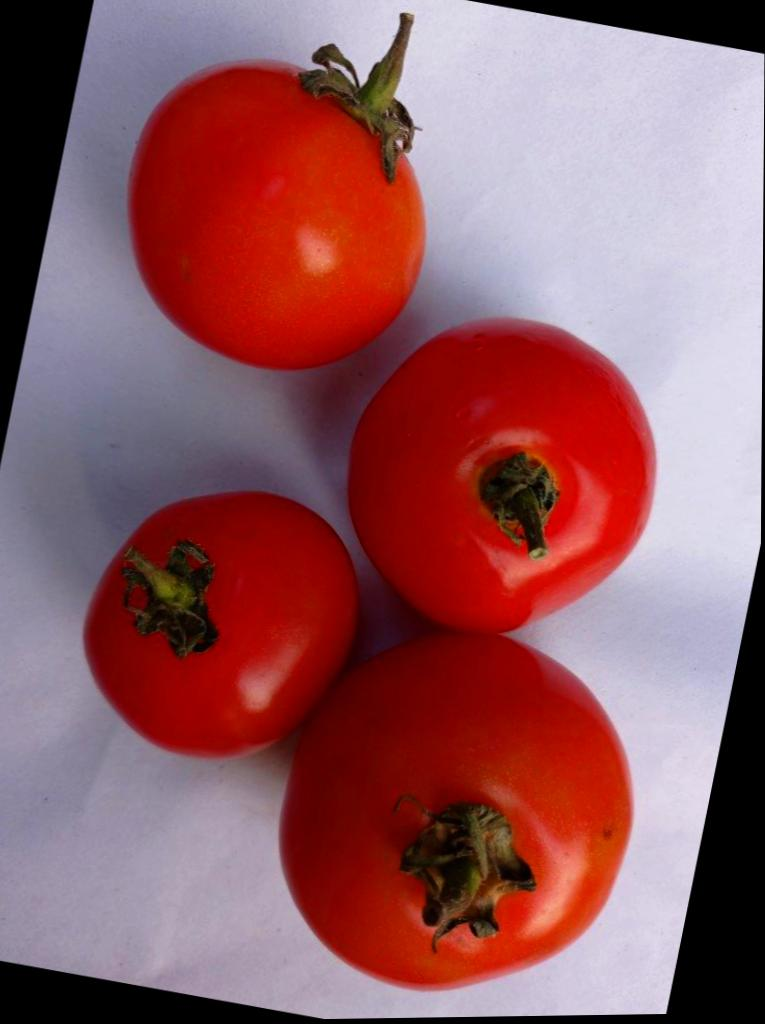tomato: (278, 635, 629, 987), (127, 14, 423, 368), (346, 319, 653, 629), (83, 491, 356, 756)
